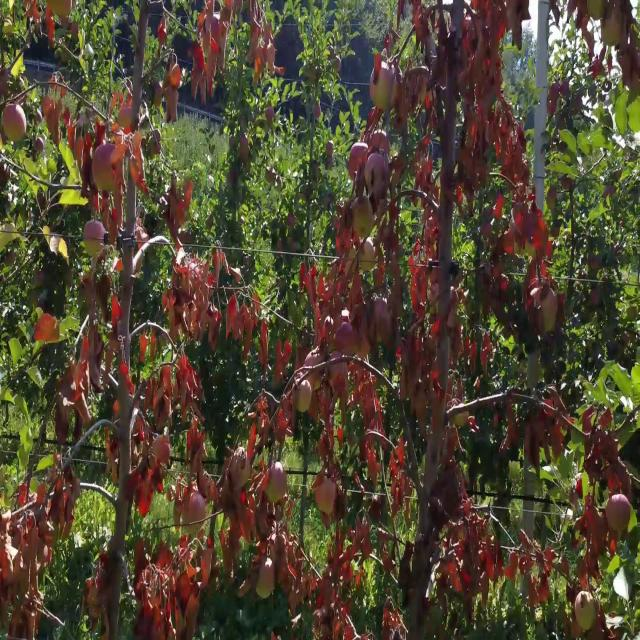apple: (92, 142, 123, 192), (369, 59, 398, 110), (181, 489, 207, 532), (536, 285, 558, 332), (606, 493, 632, 531), (229, 446, 251, 490), (366, 152, 389, 194), (265, 462, 288, 504), (3, 105, 27, 144), (82, 218, 105, 258), (574, 588, 597, 628), (314, 475, 336, 515), (256, 557, 276, 600), (351, 197, 374, 234), (335, 321, 356, 356), (292, 378, 311, 415), (348, 142, 367, 176), (361, 238, 377, 272)
